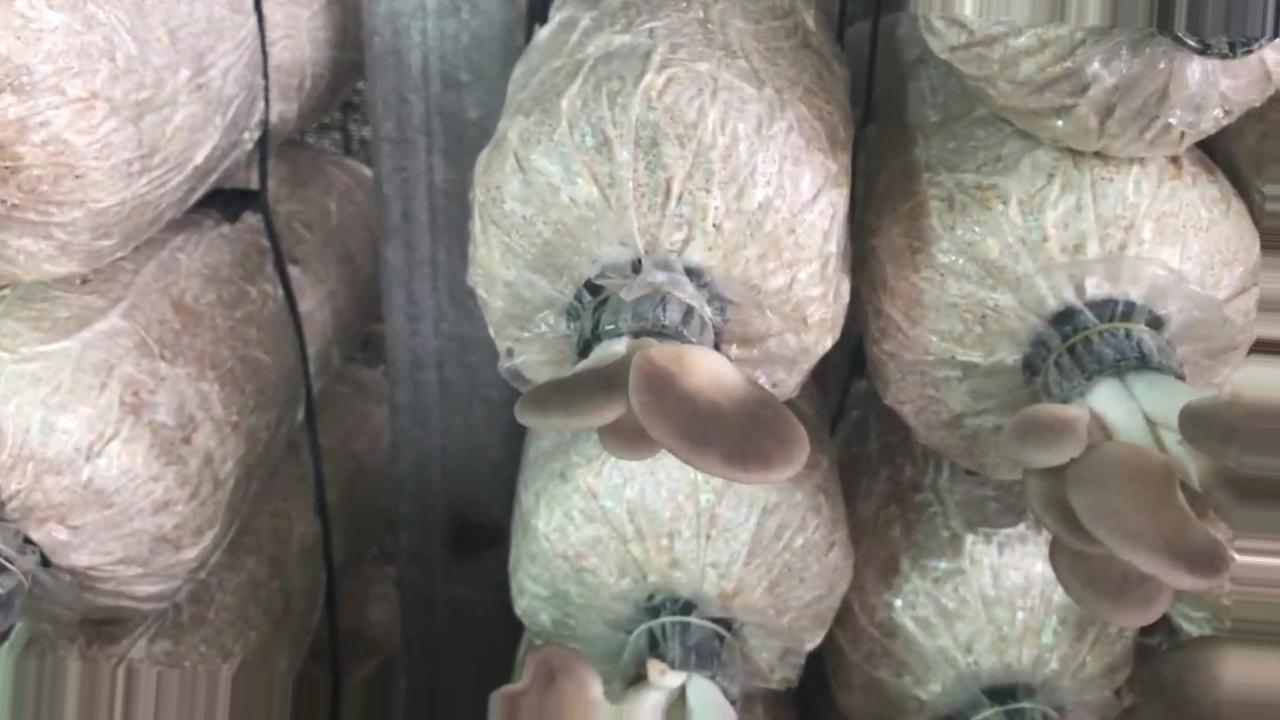nam: (1023, 320, 1280, 624), (525, 288, 807, 484)
